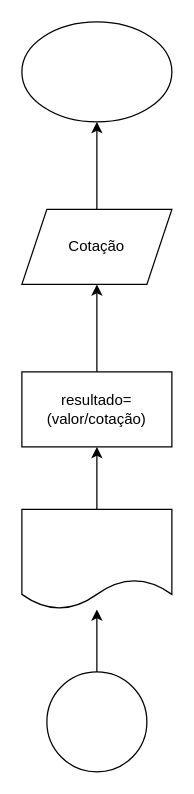
Image size: 194x794. Some labels were removed from this diagram. Here are the shapes that lost their labels. From the top down, the centre of each, then its label:
At (x=96, y=71): "início".
At (x=96, y=558): "resultado".
